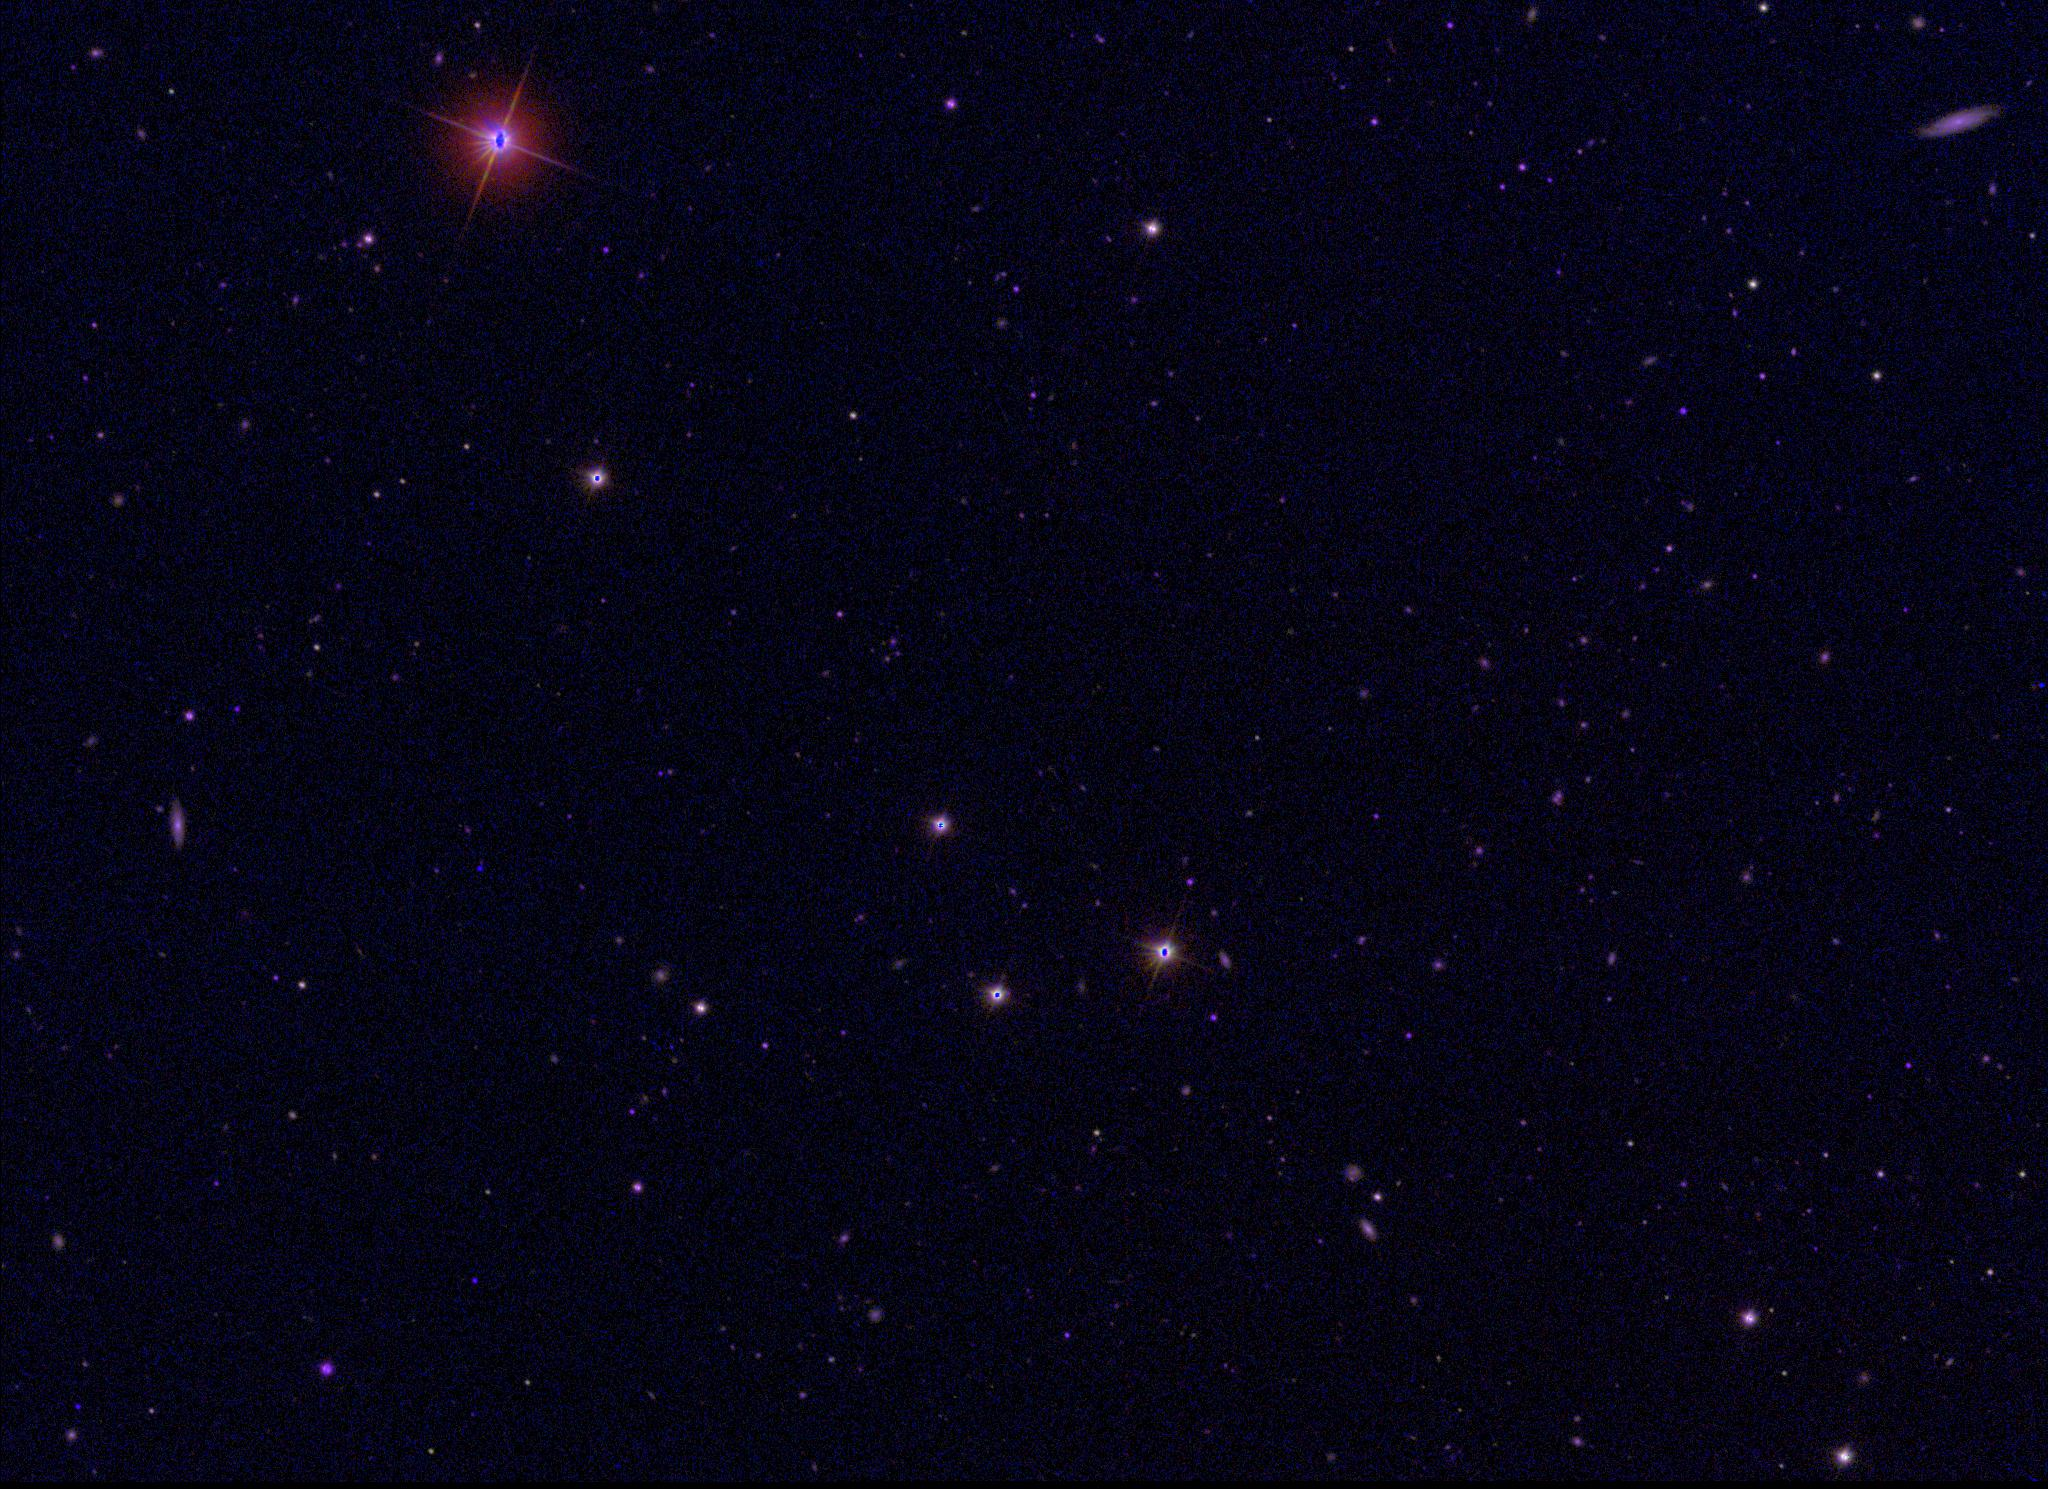L: (475, 862, 490, 877)
